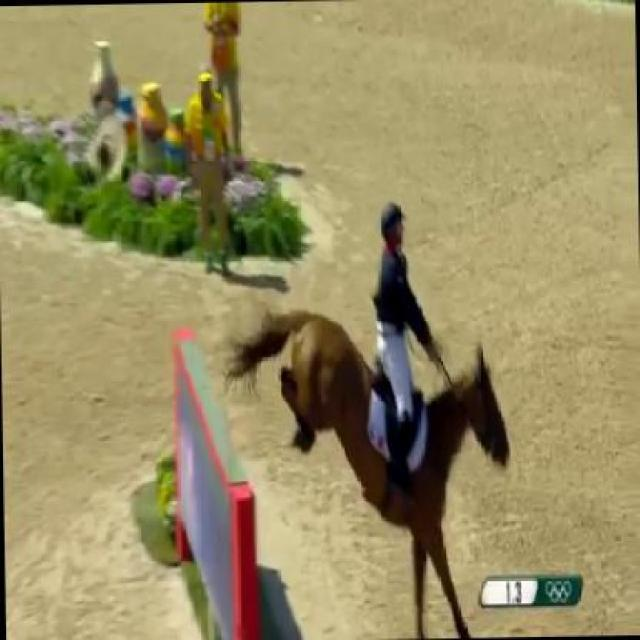non-fight: (274, 194, 512, 577)
